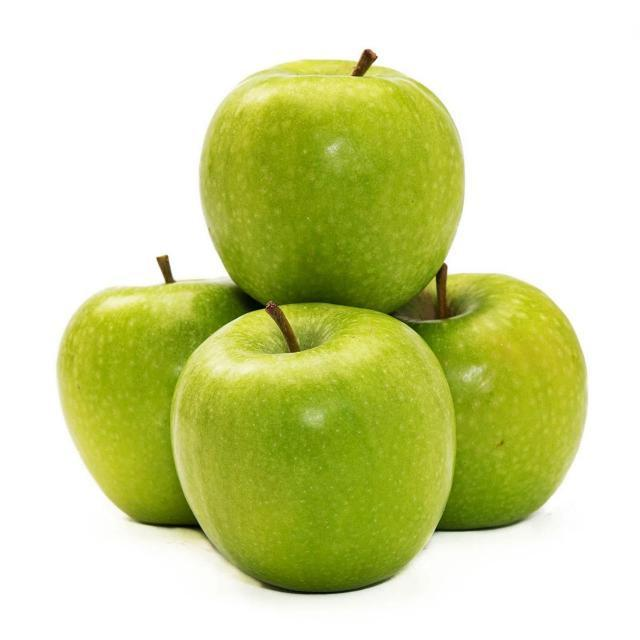Fresh Apple: (176, 303, 442, 595), (196, 58, 472, 312), (63, 282, 270, 522), (400, 275, 588, 522)
